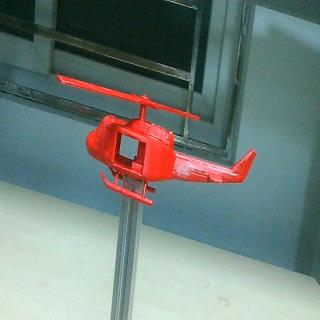Helicopter: (55, 70, 257, 206)
